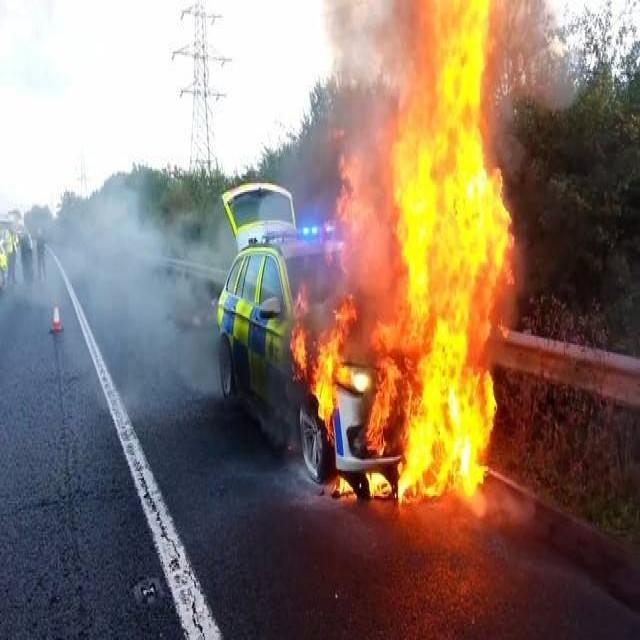fire: (309, 4, 509, 506)
